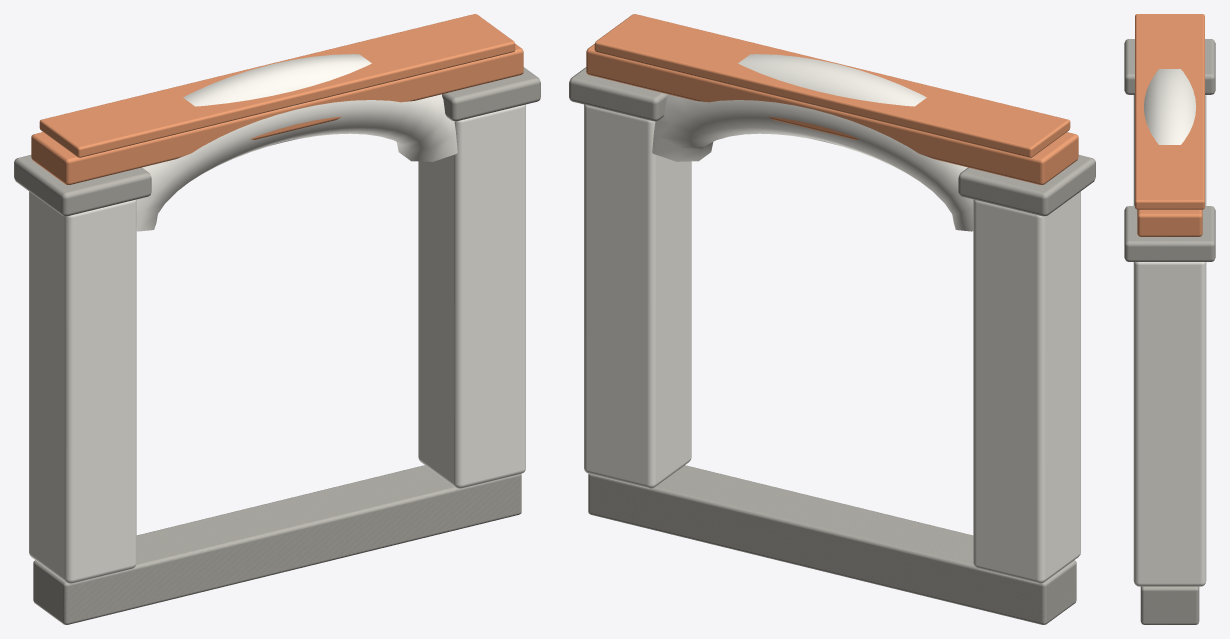
The model's file is hero-shooter-harbour-payload-wall-bay-colonnade-96f88077__27694.glb.
The picture shows the model from 3 angles, left to right: view 1: azimuth 30°, elevation 25°; view 2: azimuth 150°, elevation 25°; view 3: azimuth 270°, elevation 25°; orthographic projection. The views are drawn at different scales.
Parts seen in each view (by area): view 1: wall-bay-colonnade; view 2: wall-bay-colonnade; view 3: wall-bay-colonnade.
Boxes of the visible parts, bbox=[...] form: wall-bay-colonnade: bbox=[14, 14, 540, 624]; wall-bay-colonnade: bbox=[569, 14, 1095, 624]; wall-bay-colonnade: bbox=[1124, 14, 1215, 624].
Size of the model in its own units: 4.16 by 4.07 by 0.78.
Materials: 3 (1 with a texture image).
